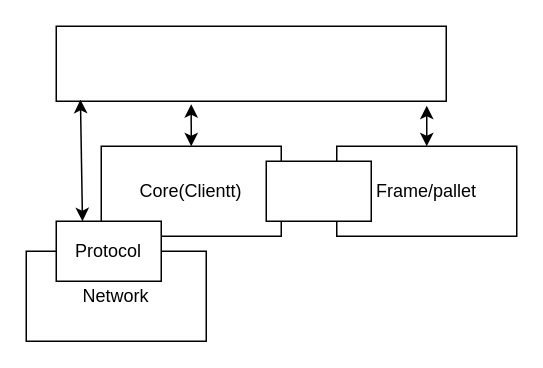
The diagram is 543 pixels wide and 368 high, and some of its shapes have lost their labels. The centre of each missing label's shape, as x and y in pixels:
Service: (x=250, y=63)
System: (x=318, y=190)
